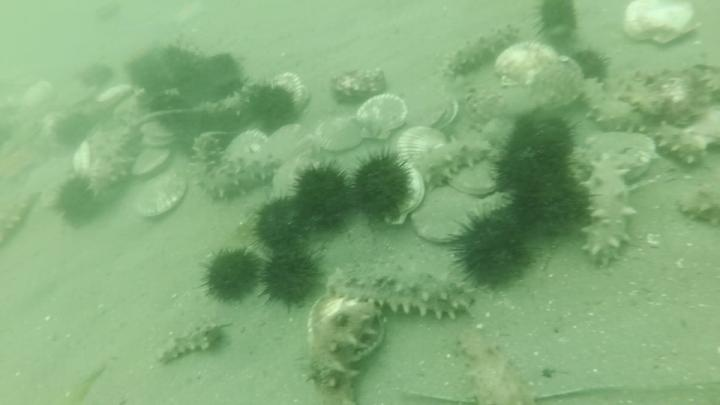echinus: (448, 207, 536, 292), (509, 170, 594, 240), (348, 149, 421, 227), (495, 141, 581, 201), (290, 160, 355, 228), (258, 247, 325, 309), (186, 76, 258, 130), (199, 245, 263, 305), (250, 194, 313, 251), (242, 79, 302, 134), (508, 107, 571, 158), (52, 174, 103, 229), (125, 50, 172, 95), (532, 1, 581, 42), (50, 110, 97, 152), (161, 41, 207, 80), (569, 46, 612, 85), (203, 50, 247, 86), (75, 60, 117, 94), (145, 87, 190, 118)
holothurian: (323, 258, 478, 324), (300, 294, 386, 401), (578, 152, 638, 269), (456, 326, 540, 405), (191, 135, 283, 204), (71, 120, 143, 205), (574, 73, 662, 135), (442, 21, 523, 78), (419, 134, 495, 190), (598, 67, 670, 122), (154, 317, 231, 368), (649, 117, 713, 171), (675, 158, 720, 230), (1, 186, 42, 249)
scallop: (341, 155, 418, 234), (409, 184, 493, 247), (575, 128, 660, 187), (619, 1, 701, 50), (395, 79, 463, 136), (267, 143, 325, 204), (383, 158, 428, 228), (133, 168, 184, 228), (353, 92, 411, 142), (393, 124, 449, 174), (259, 122, 316, 168), (312, 112, 368, 156), (449, 157, 503, 200), (220, 127, 271, 170), (268, 70, 312, 118), (130, 145, 174, 180), (137, 119, 177, 152), (19, 79, 57, 112), (95, 82, 136, 109)
